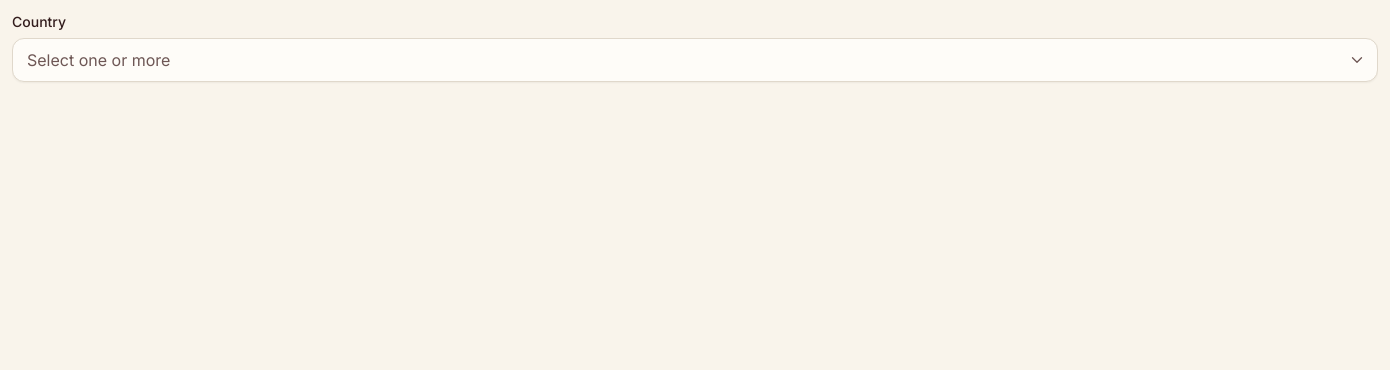
SearchableMultiSelect › opens, filters, selects multiple (stays open), and closes on outside click
Click the dropdown named "Country": (99, 60) [12,38,1378,82]
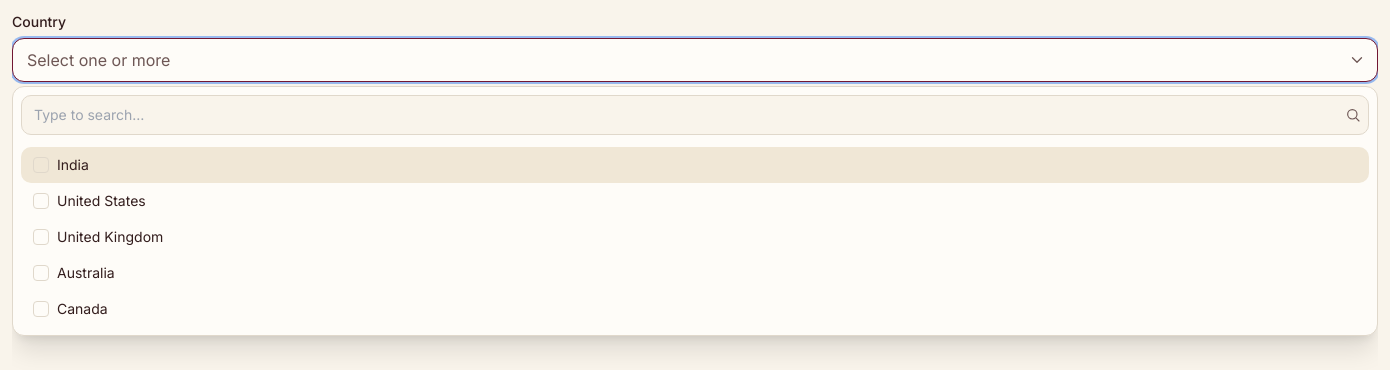
Note: Filter the list.
In the search field: (695, 115) [21,95,1369,135], type "united"
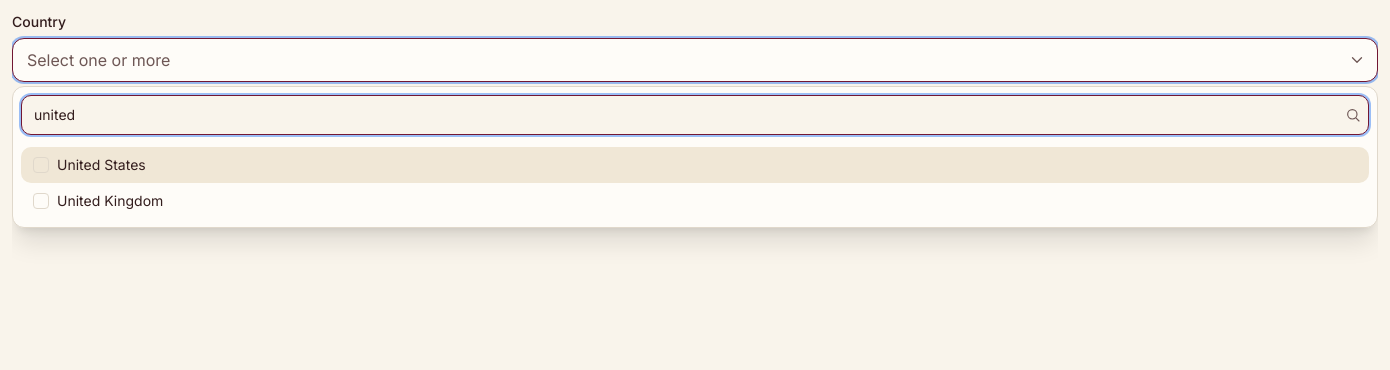
Click the option "United States": (101, 164) [21,147,1369,183]
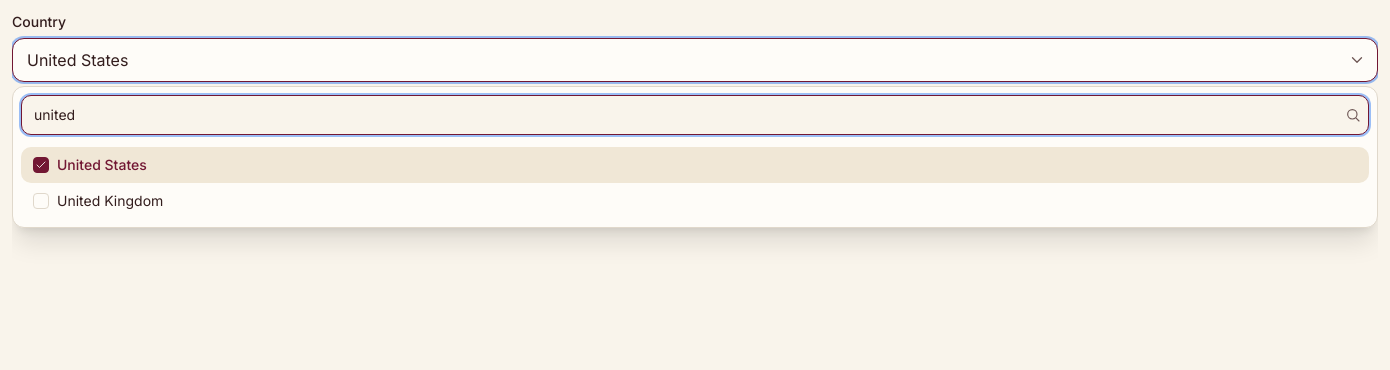
Expected: the list "United States United Kingdom" is shown, [17,143,1373,223]
Note: Close on outside click.
Click the element that starts with "Country": (695, 66) [12,12,1378,120]
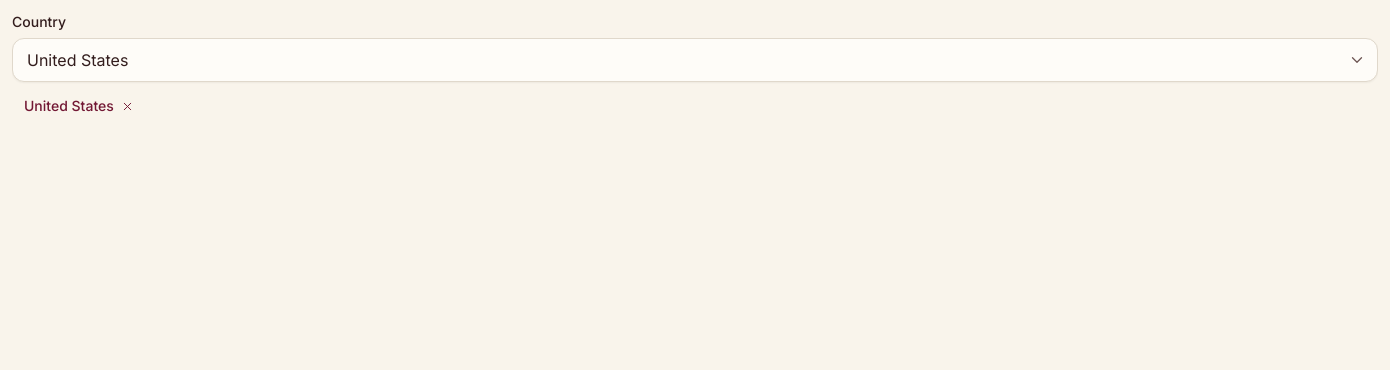
Expected: the list "United States United Kingdom" is gone
